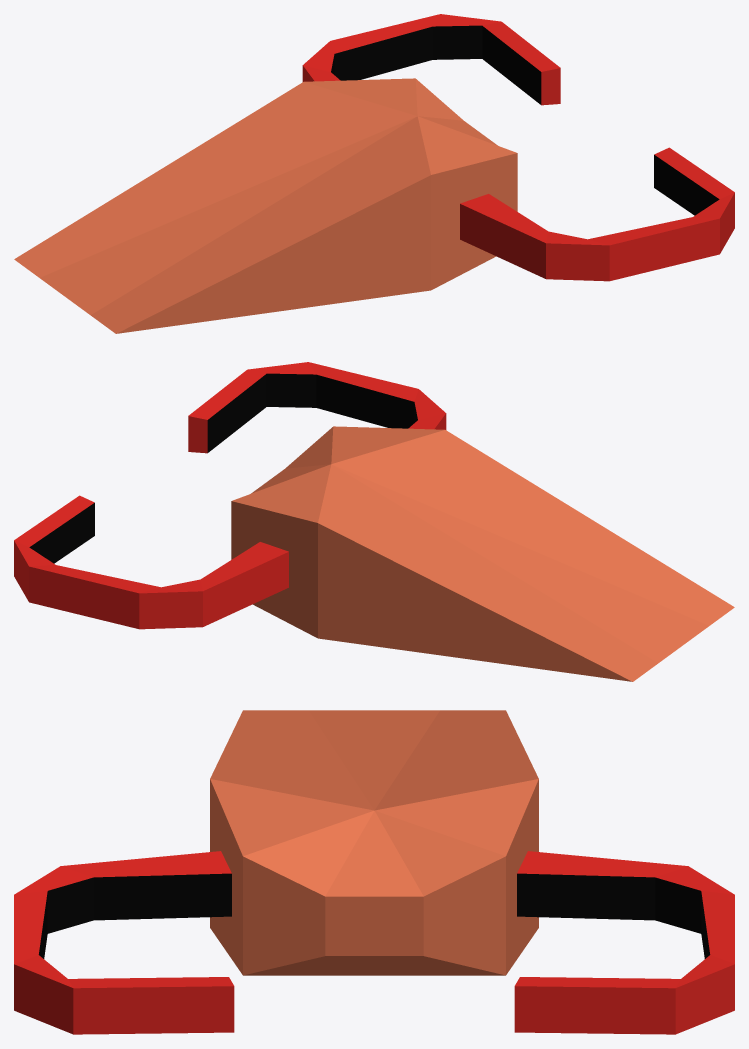
Rendered from ScrapDrone.fbx.
The picture shows the model from 3 angles, top to bottom: view 1: azimuth 30°, elevation 25°; view 2: azimuth 150°, elevation 25°; view 3: azimuth 270°, elevation 25°; orthographic projection. The views are drawn at different scales.
Parts seen in each view (by area): view 1: Cube; view 2: Cube; view 3: Cube.
Boxes of the visible parts, x1=… form: Cube: x1=14, y1=14, x2=734, y2=333; Cube: x1=14, y1=362, x2=734, y2=681; Cube: x1=14, y1=710, x2=734, y2=1034.
Bounding box in the file's own units: 1003 × 200 × 877.
